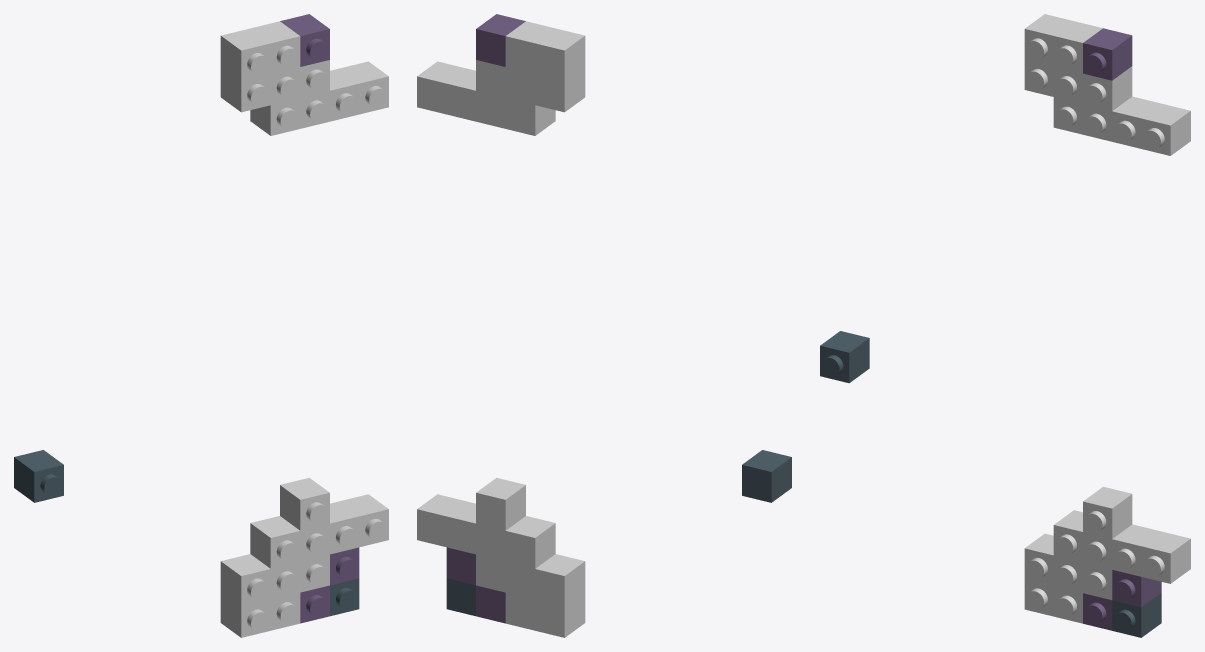
Rendered from full.glb.
3 renders of one model, left to right at view 1: azimuth 30°, elevation 25°; view 2: azimuth 150°, elevation 25°; view 3: azimuth 330°, elevation 25°, orthographic.
Visible parts, largest first — view 1: world; view 2: world; view 3: world.
Part boxes in pixels (left/top/right/bottom): world: left=14, top=14, right=388, bottom=637; world: left=417, top=14, right=791, bottom=637; world: left=820, top=14, right=1190, bottom=637.
Bounding box in the file's own units: 96 × 152 × 11.4.
